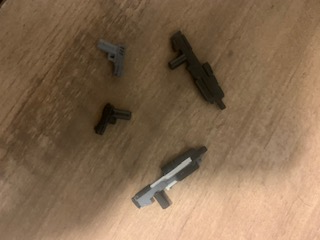pistol: (92, 36, 129, 82), (93, 101, 133, 136)
rifle: (131, 144, 209, 211), (167, 28, 227, 111)
